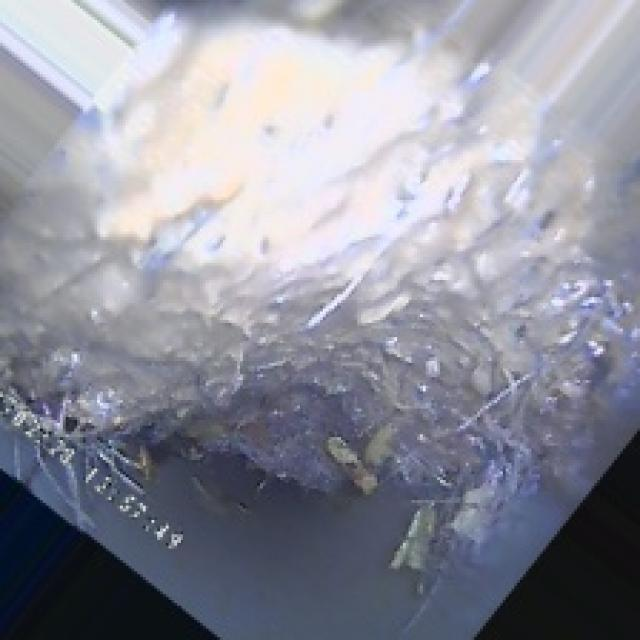sluge accumulation: (63, 97, 583, 483)
